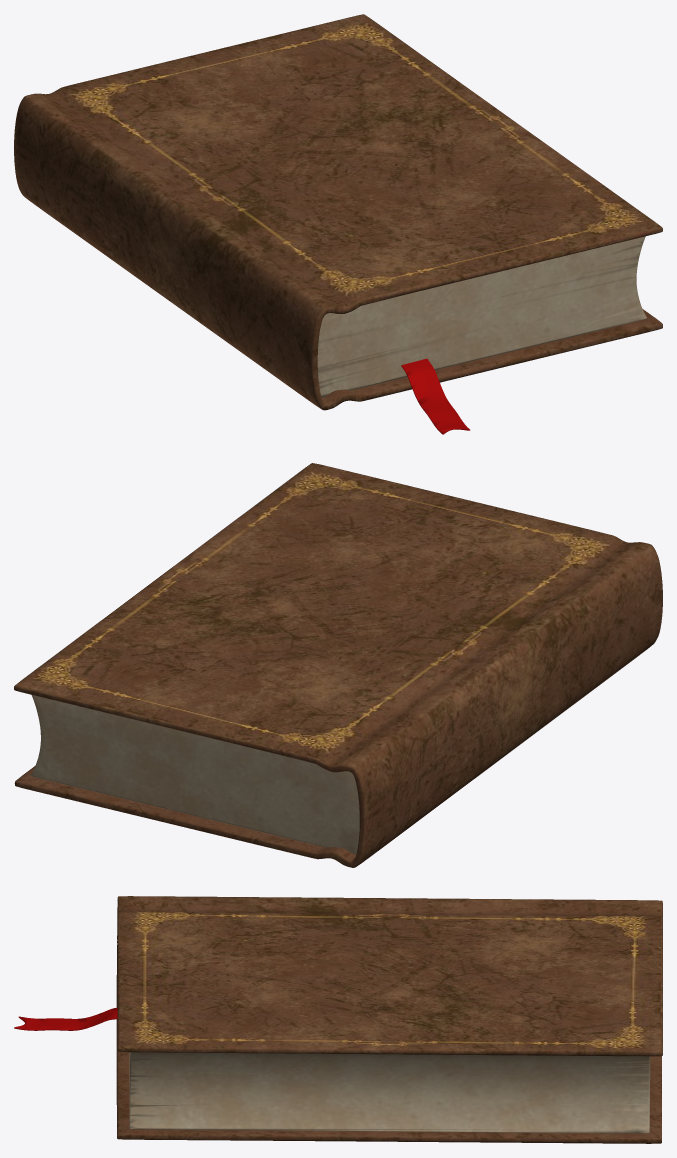
The picture shows the model from 3 angles, top to bottom: view 1: azimuth 30°, elevation 25°; view 2: azimuth 150°, elevation 25°; view 3: azimuth 270°, elevation 25°; orthographic projection. The views are drawn at different scales.
Visible parts, largest first — view 1: old_book; view 2: old_book; view 3: old_book.
Boxes of the visible parts, box(x1,y1,x2,y2) form: old_book: box(14, 14, 662, 434); old_book: box(14, 463, 662, 867); old_book: box(14, 896, 662, 1143).
Size of the model in its own units: 0.1877 by 0.0549 by 0.3286.
1 material, 1 textured.
